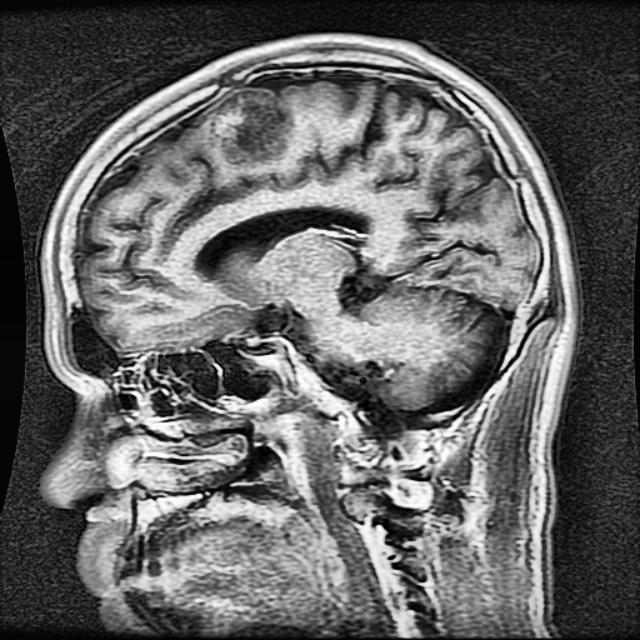Meningioma: (215, 89, 295, 163)
